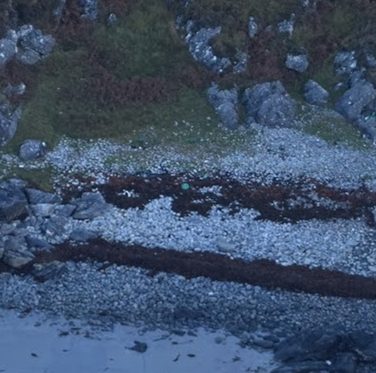white_in_green: (169, 169, 202, 199)
